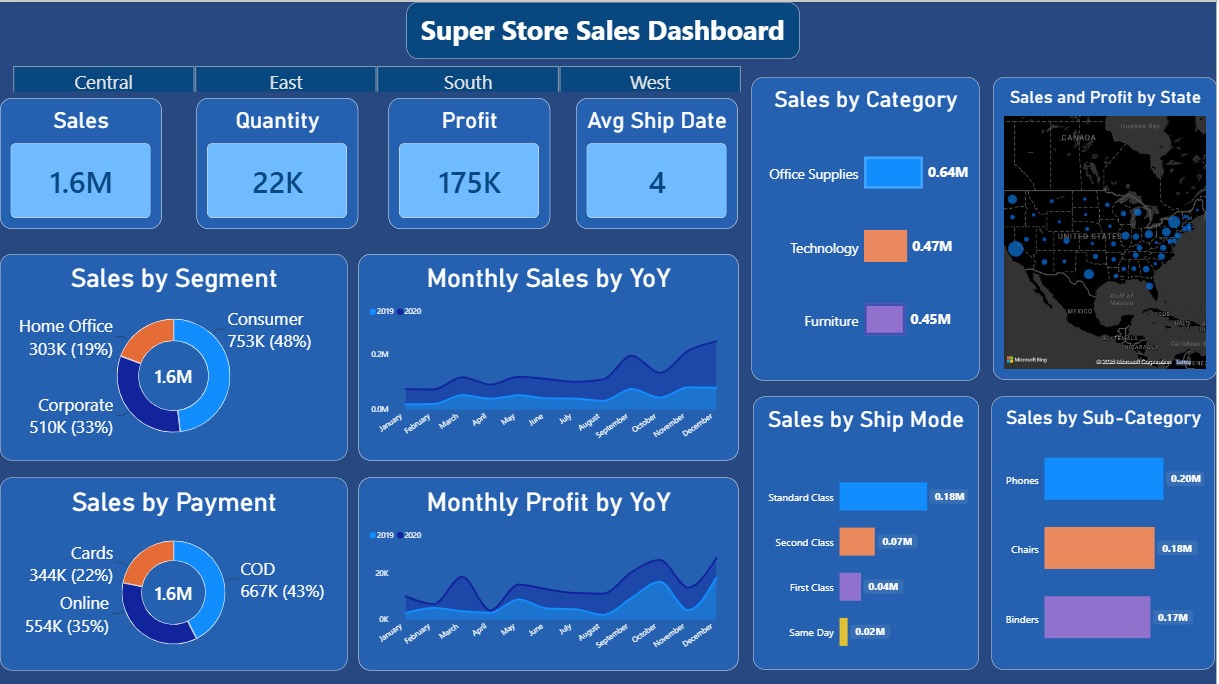

The page's visual inventory and layout, read from the dashboard file:
{"tool":"powerbi","page":{"name":"Super Store Sales Dashboard","canvas":[1920,1080],"ordinal":0},"visuals":[{"type":"clusteredBarChart","title":" Sales by Category","fields":{"Category":["SuperStore_Sales_Dataset.Category"],"Y":["Sum(SuperStore_Sales_Dataset.Sales)"]},"box":[1187.7,119.1,360,479.1],"z":0},{"type":"clusteredBarChart","title":" Sales  by Sub-Category","fields":{"Category":["SuperStore_Sales_Dataset.Sub-Category"],"Y":["Sum(SuperStore_Sales_Dataset.Sales)"]},"box":[1565.5,622.9,352.9,431.1],"z":1000},{"type":"clusteredBarChart","title":" Sales by Ship Mode ","fields":{"Category":["SuperStore_Sales_Dataset.Ship Mode"],"Y":["Sum(SuperStore_Sales_Dataset.Sales)"]},"box":[1188.7,623.6,356.4,431.4],"z":2000},{"type":"stackedAreaChart","title":"Monthly Sales by YoY","fields":{"Category":["SuperStore_Sales_Dataset.Order Date.Variation.Date Hierarchy.Month","SuperStore_Sales_Dataset.Order Date.Variation.Date Hierarchy.Day"],"Series":["SuperStore_Sales_Dataset.Order Date.Variation.Date Hierarchy.Year"],"Y":["Sum(SuperStore_Sales_Dataset.Sales)"]},"box":[565,398.6,600.2,325.9],"z":3000},{"type":"stackedAreaChart","title":"Monthly Profit by YoY","fields":{"Category":["SuperStore_Sales_Dataset.Order Date.Variation.Date Hierarchy.Month","SuperStore_Sales_Dataset.Order Date.Variation.Date Hierarchy.Day"],"Series":["SuperStore_Sales_Dataset.Order Date.Variation.Date Hierarchy.Year"],"Y":["Sum(SuperStore_Sales_Dataset.Profit)"]},"box":[565,750.2,600.2,304.8],"z":4000},{"type":"map","title":" Sales and Profit by State","fields":{"Category":["SuperStore_Sales_Dataset.State"],"Size":["Sum(SuperStore_Sales_Dataset.Sales)"]},"box":[1567.9,118.4,354,478.3],"z":5000},{"type":"donutChart","title":" Sales by Segment","fields":{"Category":["SuperStore_Sales_Dataset.Segment"],"Y":["Sum(SuperStore_Sales_Dataset.Sales)"]},"box":[0,398.6,548.6,325.9],"z":6000},{"type":"donutChart","title":" Sales by Payment","fields":{"Category":["SuperStore_Sales_Dataset.Payment Mode"],"Y":["Sum(SuperStore_Sales_Dataset.Sales)"]},"box":[0,750.2,548.6,304.8],"z":7000},{"type":"slicer","fields":{"Values":["SuperStore_Sales_Dataset.Region"]},"box":[0,98.5,1188.7,42.2],"z":8000},{"type":"textbox","box":[641.9,0,620.5,90],"z":9000},{"type":"cardVisual","title":"Sales","fields":{"Data":["Sum(SuperStore_Sales_Dataset.Sales)"]},"box":[0,152.4,255.1,206.9],"z":10000},{"type":"cardVisual","title":"Profit ","fields":{"Data":["Sum(SuperStore_Sales_Dataset.Profit)"]},"box":[614.3,152.4,255.1,206.9],"z":11000},{"type":"cardVisual","title":"Quantity","fields":{"Data":["Sum(SuperStore_Sales_Dataset.Quantity)"]},"box":[309.5,152.4,255.1,206.9],"z":12000},{"type":"cardVisual","title":"Avg Ship Date","fields":{"Data":["Avg(SuperStore_Sales_Dataset.AvgDelivery)"]},"box":[909.7,152.4,255.1,206.9],"z":13000}]}

Visuals, with their boxes in screenshot pixels (x1, y1, x2, y2), scaled from the page's 1920x1080 canvas onto the 1219x684 screenshot:
" Sales by Category" clusteredBarChart: <bbox>754, 75, 983, 379</bbox>
" Sales  by Sub-Category" clusteredBarChart: <bbox>994, 395, 1218, 668</bbox>
" Sales by Ship Mode " clusteredBarChart: <bbox>755, 395, 981, 668</bbox>
"Monthly Sales by YoY" stackedAreaChart: <bbox>359, 252, 740, 459</bbox>
"Monthly Profit by YoY" stackedAreaChart: <bbox>359, 475, 740, 668</bbox>
" Sales and Profit by State" map: <bbox>995, 75, 1218, 378</bbox>
" Sales by Segment" donutChart: <bbox>0, 252, 348, 459</bbox>
" Sales by Payment" donutChart: <bbox>0, 475, 348, 668</bbox>
slicer - SuperStore_Sales_Dataset.Region: <bbox>0, 62, 755, 89</bbox>
textbox: <bbox>408, 0, 801, 57</bbox>
"Sales" cardVisual: <bbox>0, 97, 162, 228</bbox>
"Profit " cardVisual: <bbox>390, 97, 552, 228</bbox>
"Quantity" cardVisual: <bbox>197, 97, 358, 228</bbox>
"Avg Ship Date" cardVisual: <bbox>578, 97, 740, 228</bbox>
